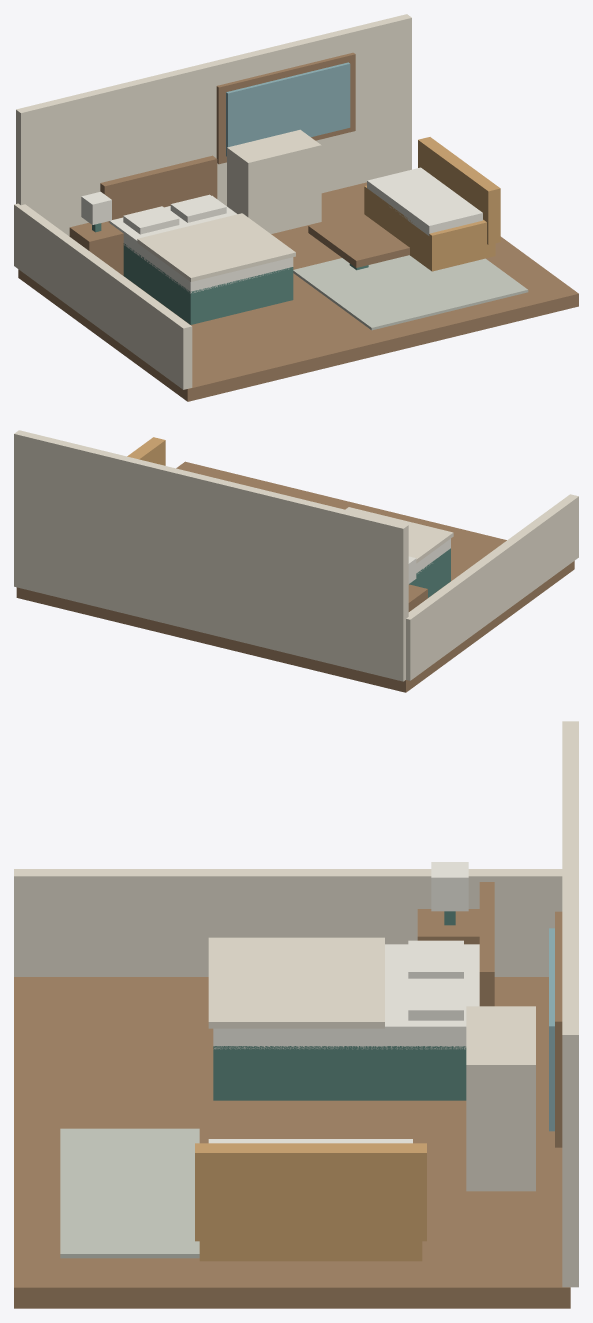
The model's file is interior.glb.
3 renders of one model, top to bottom at view 1: azimuth 30°, elevation 25°; view 2: azimuth 150°, elevation 25°; view 3: azimuth 270°, elevation 25°, orthographic. The views are drawn at different scales.
Parts seen in each view (by area): view 1: back wall, floor, left cutaway wall, rug, cabinet, window, cover, bed base, sofa base, headboard, seat cushion, sofa back (+6 smaller); view 2: back wall, left cutaway wall, floor, cover, bed base, sofa back, bedside table, mattress; view 3: floor, left cutaway wall, sofa back, rug, cover, bed base, cabinet, back wall, mattress, coffee table, sofa base, pillow (×2) (+6 smaller).
Boxes of the visible parts, bbox=[...] form: back wall: bbox=[16, 14, 411, 236]; floor: bbox=[18, 182, 578, 401]; left cutaway wall: bbox=[14, 203, 192, 389]; rug: bbox=[293, 255, 528, 330]; cabinet: bbox=[227, 129, 321, 233]; window: bbox=[226, 62, 350, 156]; cover: bbox=[137, 213, 295, 281]; bed base: bbox=[123, 243, 293, 324]; sofa base: bbox=[364, 185, 495, 271]; headboard: bbox=[100, 155, 217, 222]; seat cushion: bbox=[367, 167, 482, 235]; sofa back: bbox=[418, 137, 500, 244]; back wall: bbox=[14, 430, 408, 681]; left cutaway wall: bbox=[406, 494, 578, 680]; floor: bbox=[16, 461, 574, 692]; cover: bbox=[345, 507, 453, 563]; bed base: bbox=[409, 548, 450, 597]; sofa back: bbox=[127, 437, 165, 465]; bedside table: bbox=[408, 584, 427, 611]; mattress: bbox=[416, 538, 450, 573]; floor: bbox=[14, 977, 570, 1308]; left cutaway wall: bbox=[14, 869, 562, 976]; sofa back: bbox=[195, 1143, 426, 1241]; rug: bbox=[60, 1128, 199, 1258]; cover: bbox=[208, 937, 384, 1028]; bed base: bbox=[213, 1046, 466, 1100]; cabinet: bbox=[466, 1006, 535, 1191]; back wall: bbox=[562, 721, 578, 1287]; mattress: bbox=[213, 944, 479, 1049]; coffee table: bbox=[199, 1101, 357, 1143]; sofa base: bbox=[199, 1241, 422, 1261]; pillow (×2): bbox=[408, 940, 463, 1020].
Bounding box in the file's own units: 8.09 × 3.25 × 6.09.
